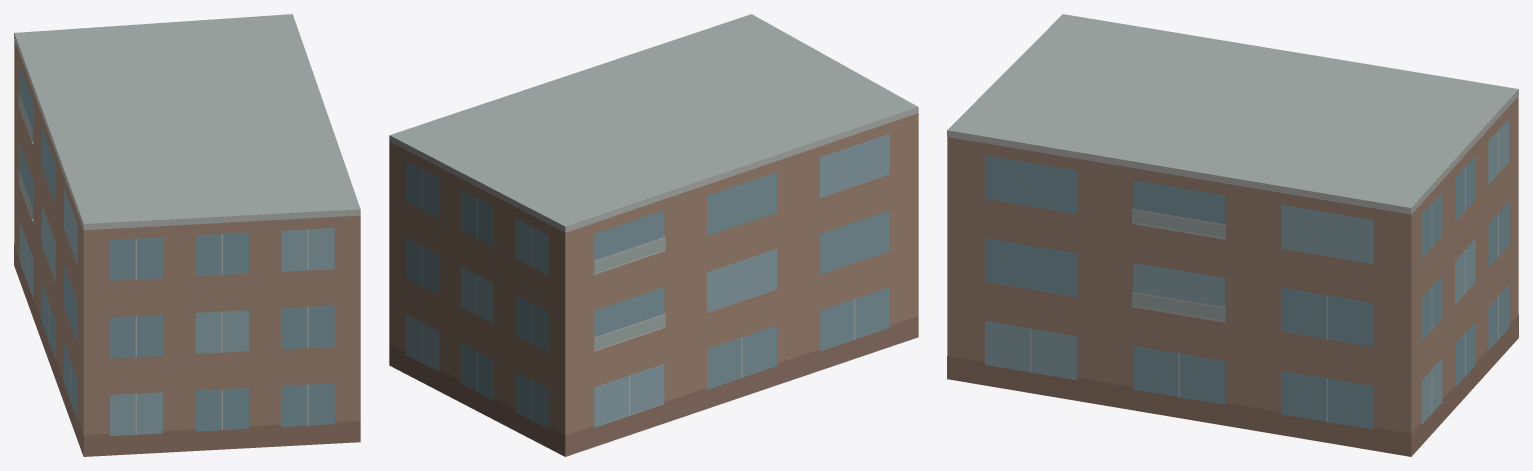
File: survey-upis-32954246.glb
The picture shows the model from 3 angles, left to right: view 1: azimuth 30°, elevation 25°; view 2: azimuth 150°, elevation 25°; view 3: azimuth 270°, elevation 25°; orthographic projection. The views are drawn at different scales.
Visible parts, largest first — view 1: survey-upis-32954246.tmp; view 2: survey-upis-32954246.tmp; view 3: survey-upis-32954246.tmp.
Part boxes in pixels (x1,y1,x2,y2): survey-upis-32954246.tmp: (14, 14, 360, 456); survey-upis-32954246.tmp: (389, 14, 918, 456); survey-upis-32954246.tmp: (947, 14, 1518, 456).
Size of the model in its own units: 15.31 by 9.15 by 19.06.
